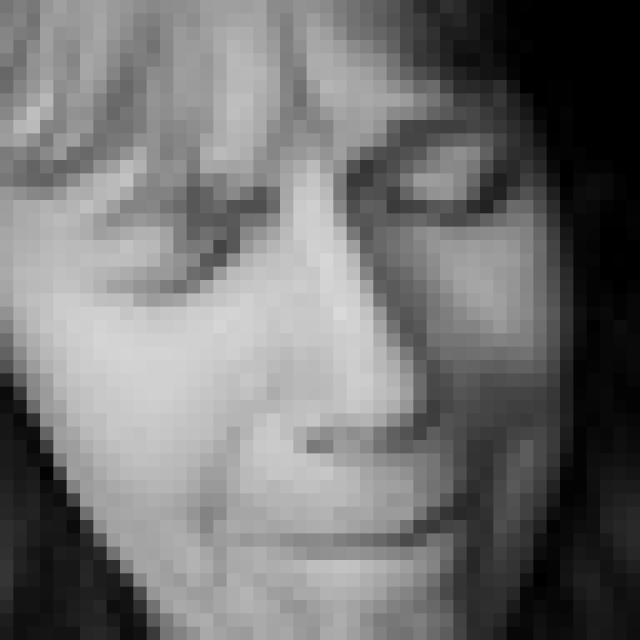sad: (79, 99, 535, 604)
